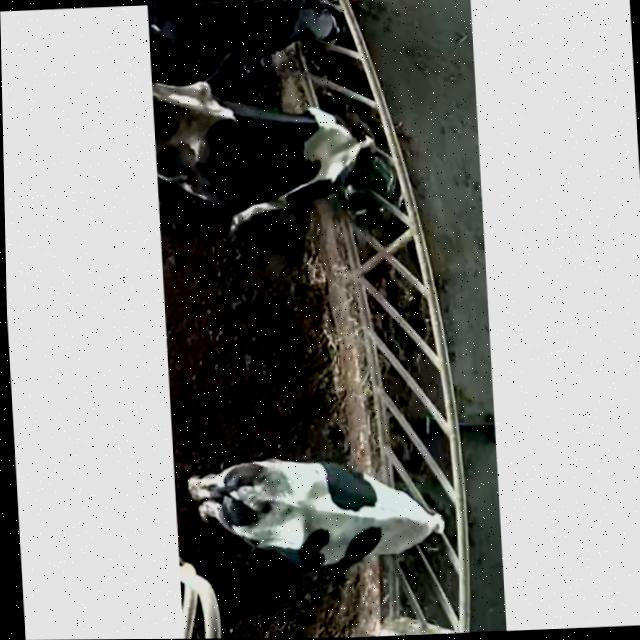eat: (252, 100, 443, 231), (347, 472, 488, 582), (221, 0, 400, 67)
